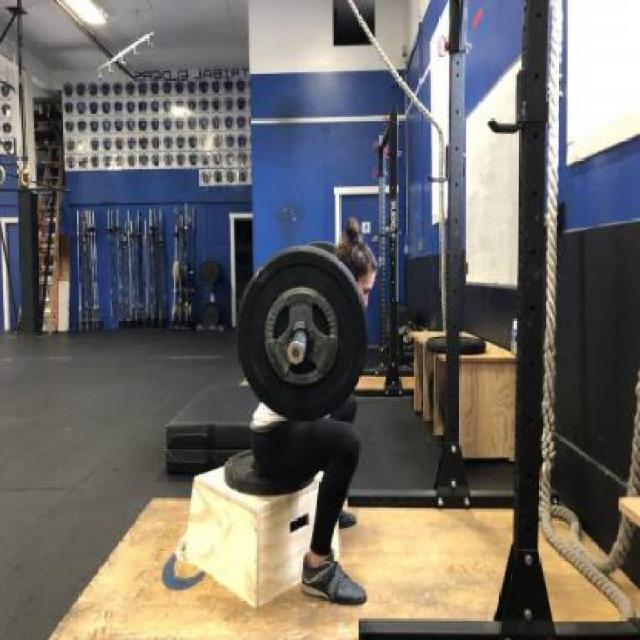Barbell: (287, 339, 305, 367)
